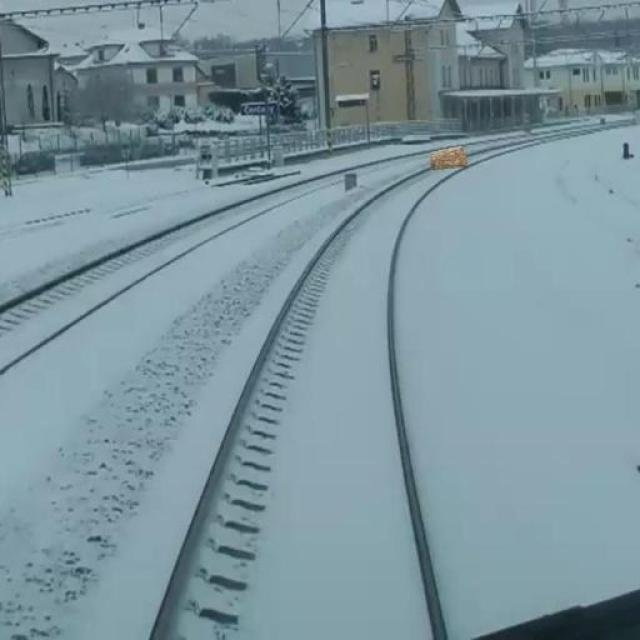Branches: (427, 145, 472, 175)
